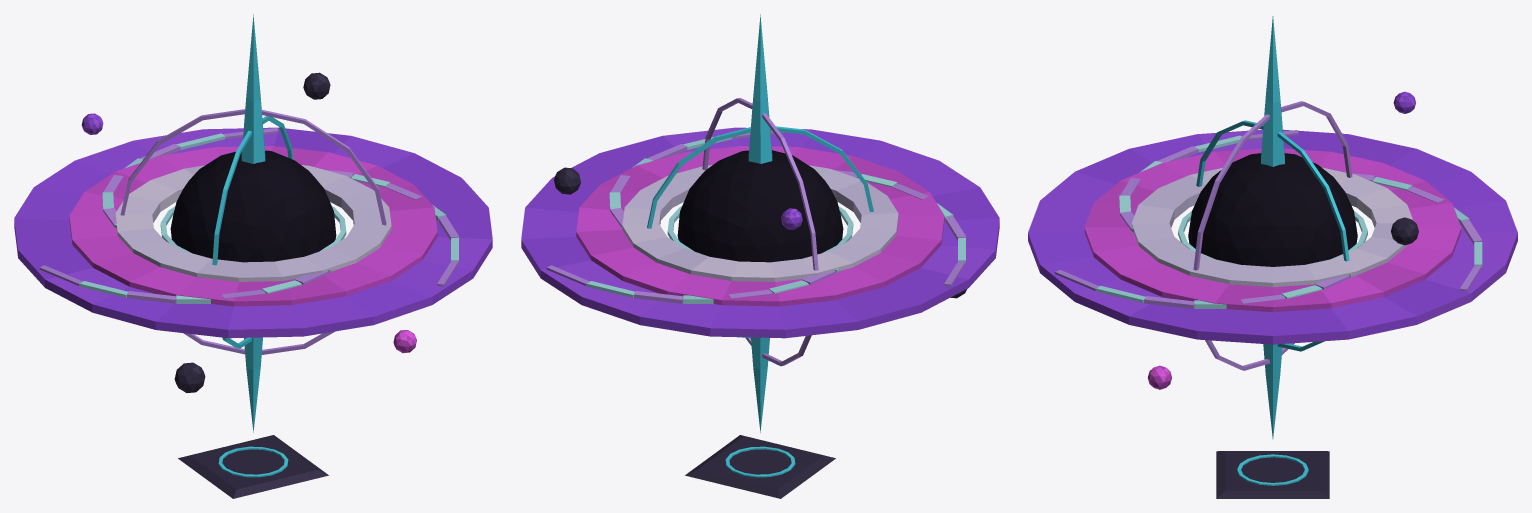
Rendered from Decor_VoidPortal_BlackHole.fbx.
3 renders of one model, left to right at view 1: azimuth 30°, elevation 25°; view 2: azimuth 150°, elevation 25°; view 3: azimuth 270°, elevation 25°, orthographic.
Parts seen in each view (by area): view 1: BlackHole_Body; view 2: BlackHole_Body; view 3: BlackHole_Body.
Boxes of the visible parts, bbox=[...] form: BlackHole_Body: bbox=[14, 14, 492, 498]; BlackHole_Body: bbox=[521, 14, 999, 498]; BlackHole_Body: bbox=[1028, 16, 1517, 498].
Bounding box in the file's own units: 52 × 54 × 52.
